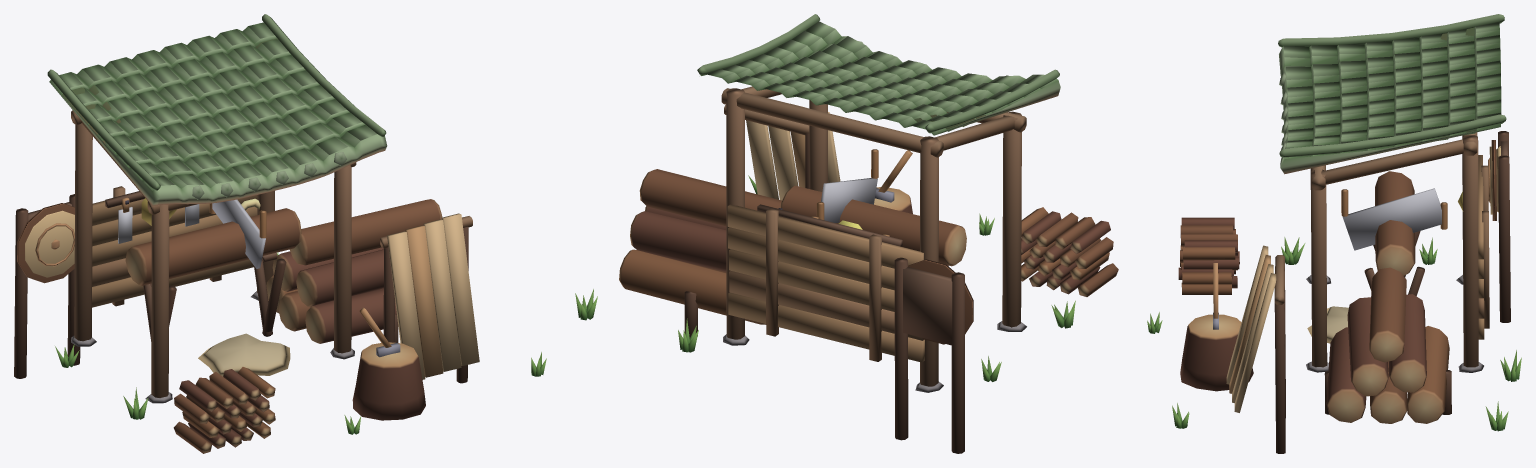
The model's file is lumber-1.glb.
The picture shows the model from 3 angles, left to right: view 1: azimuth 30°, elevation 25°; view 2: azimuth 150°, elevation 25°; view 3: azimuth 270°, elevation 25°; orthographic projection. The views are drawn at different scales.
Visible parts, largest first — view 1: lumber-1; view 2: lumber-1; view 3: lumber-1.
Part boxes in pixels (x1=…): lumber-1: x1=14, y1=14, x2=546, y2=453; lumber-1: x1=575, y1=14, x2=1118, y2=453; lumber-1: x1=1147, y1=14, x2=1521, y2=453.
Bounding box in the file's own units: 3.05 × 2.39 × 2.72.
